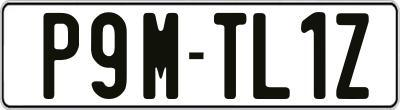1: (298, 11, 327, 98)
9: (88, 12, 128, 99)
L: (250, 11, 292, 99)
M: (140, 11, 179, 100)
P: (42, 12, 83, 98)
T: (213, 13, 248, 102)
Z: (336, 13, 374, 105)
